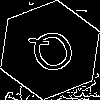Q: (25, 25, 83, 84)
